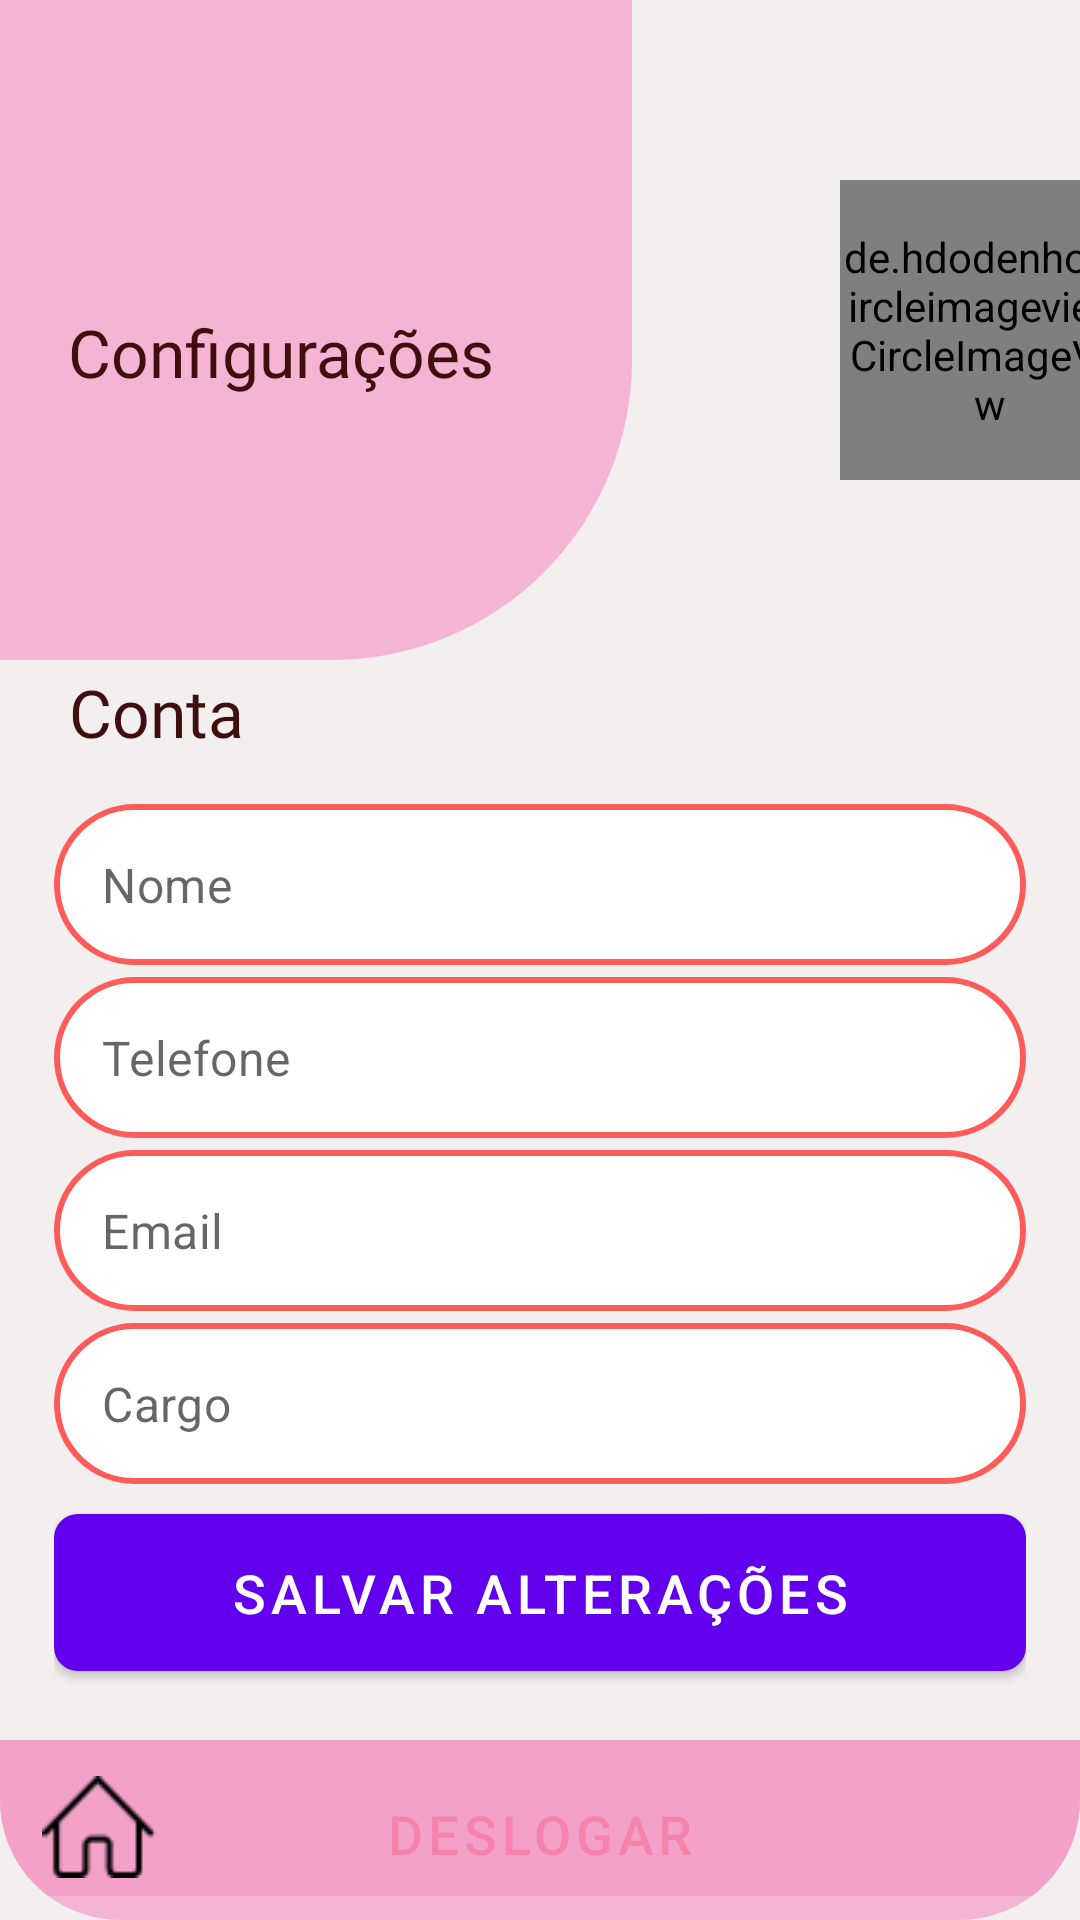

Where to tap for icons on this 1080×1920 app screen, as point (x, y):
home: point (99, 1827)
